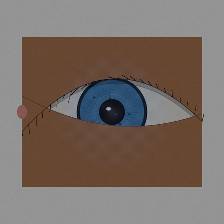hemorrhage_spot: (77, 89, 150, 148)
